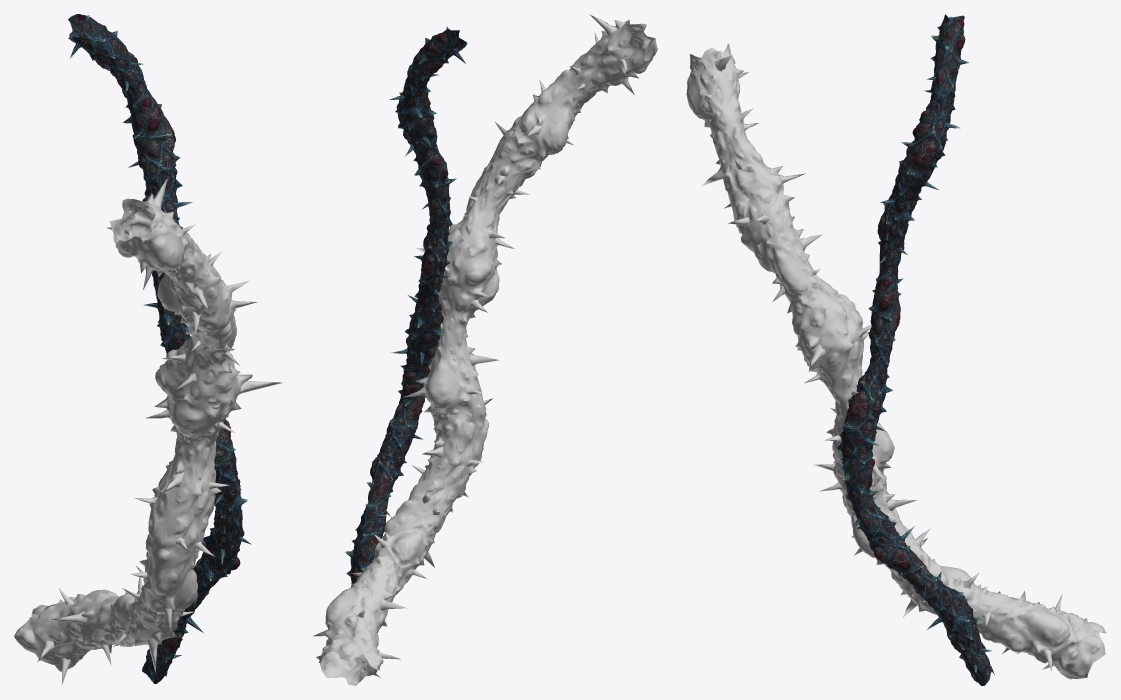
File: backup.fbx
The picture shows the model from 3 angles, left to right: view 1: azimuth 30°, elevation 25°; view 2: azimuth 150°, elevation 25°; view 3: azimuth 270°, elevation 25°; orthographic projection. The views are drawn at different scales.
Visible parts, largest first — view 1: LODGroup_1_MainMesh_1_SubMesh_2, LODGroup_1_MainMesh_1_SubMesh_1; view 2: LODGroup_1_MainMesh_1_SubMesh_2, LODGroup_1_MainMesh_1_SubMesh_1; view 3: LODGroup_1_MainMesh_1_SubMesh_2, LODGroup_1_MainMesh_1_SubMesh_1.
Boxes of the visible parts, box(x1,y1,x2,y2) form: LODGroup_1_MainMesh_1_SubMesh_2: box(14, 177, 282, 685); LODGroup_1_MainMesh_1_SubMesh_1: box(68, 14, 251, 683); LODGroup_1_MainMesh_1_SubMesh_2: box(313, 14, 657, 685); LODGroup_1_MainMesh_1_SubMesh_1: box(345, 27, 467, 586); LODGroup_1_MainMesh_1_SubMesh_2: box(686, 43, 1106, 679); LODGroup_1_MainMesh_1_SubMesh_1: box(835, 14, 994, 685).
Bounding box in the file's own units: 476 × 1466 × 867.
